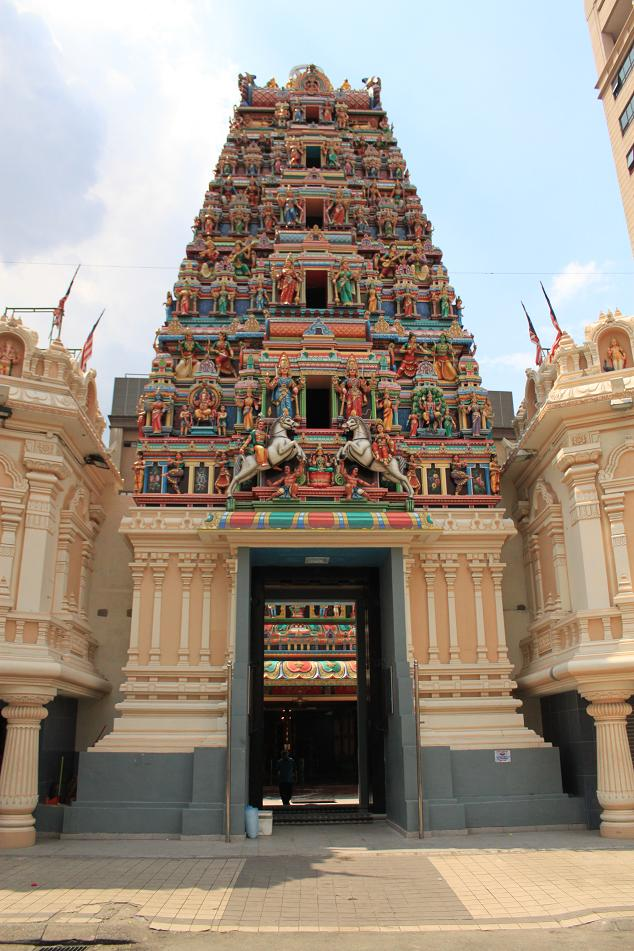Hindu Temple: (109, 66, 527, 820)
